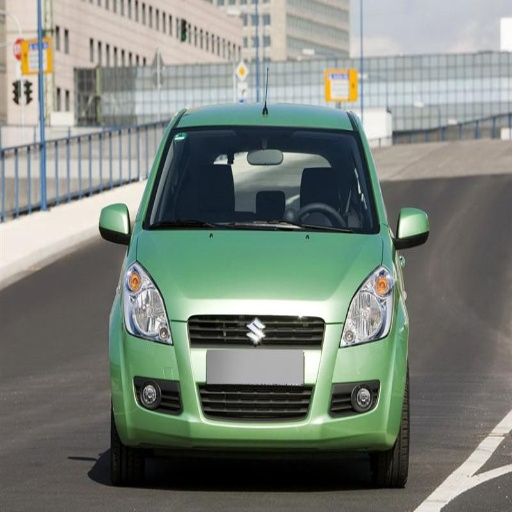front_bumper: (118, 314, 400, 450)
front_right_light: (121, 266, 172, 345)
hood: (137, 230, 384, 321)
left_mirror: (394, 207, 430, 252)
